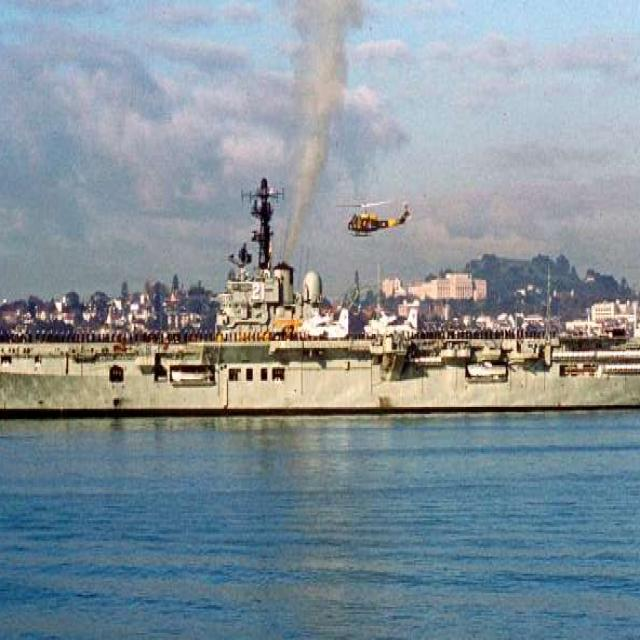Portanaves: (1, 173, 640, 429)
